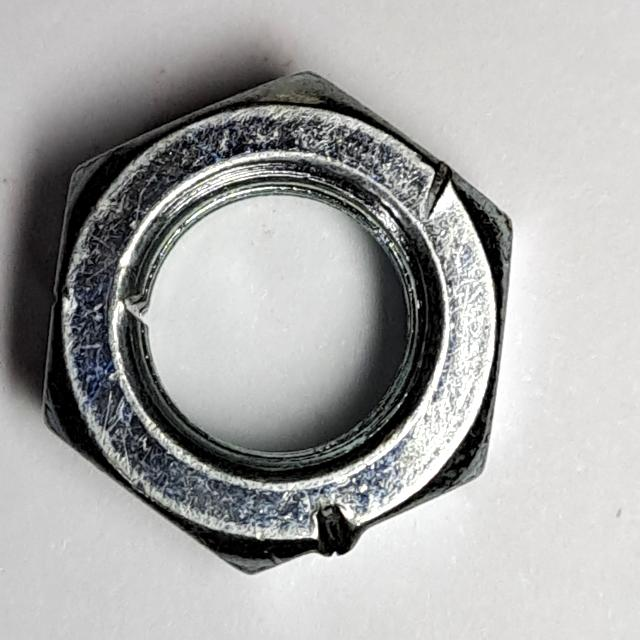Scratches: (32, 55, 527, 590)
